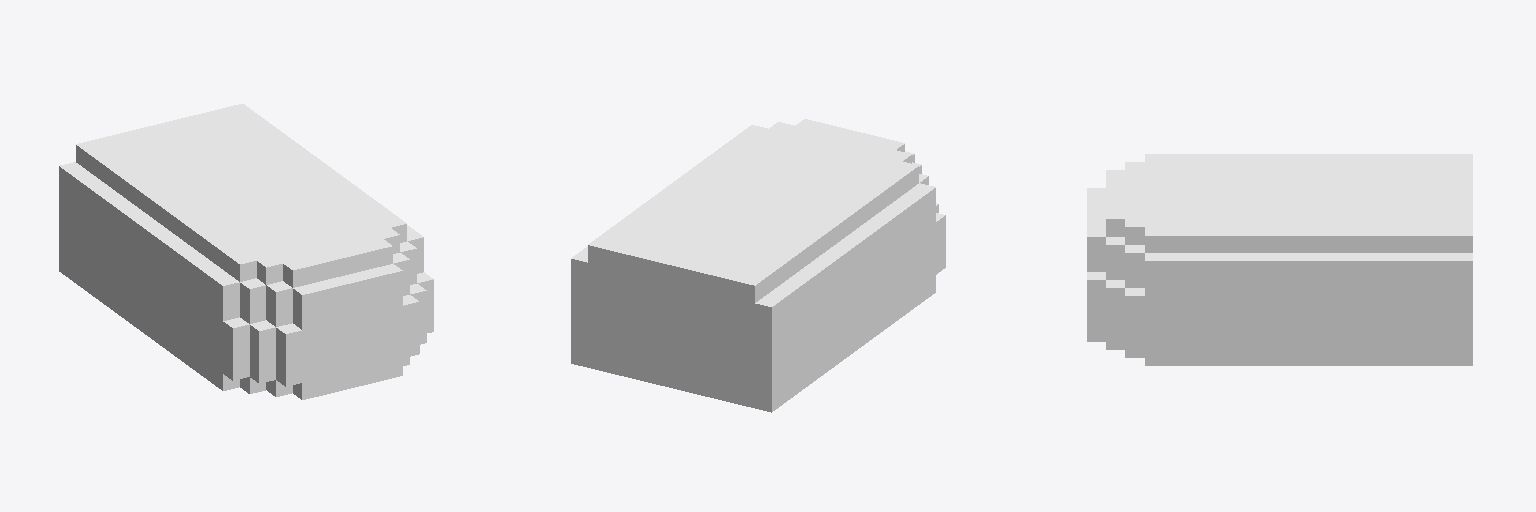
The model's file is Guard2_FootL.obj.
The picture shows the model from 3 angles: view 1: azimuth 30°, elevation 25°; view 2: azimuth 150°, elevation 25°; view 3: azimuth 270°, elevation 25°; orthographic projection.
Size of the model in its own units: 12 by 7 by 20.